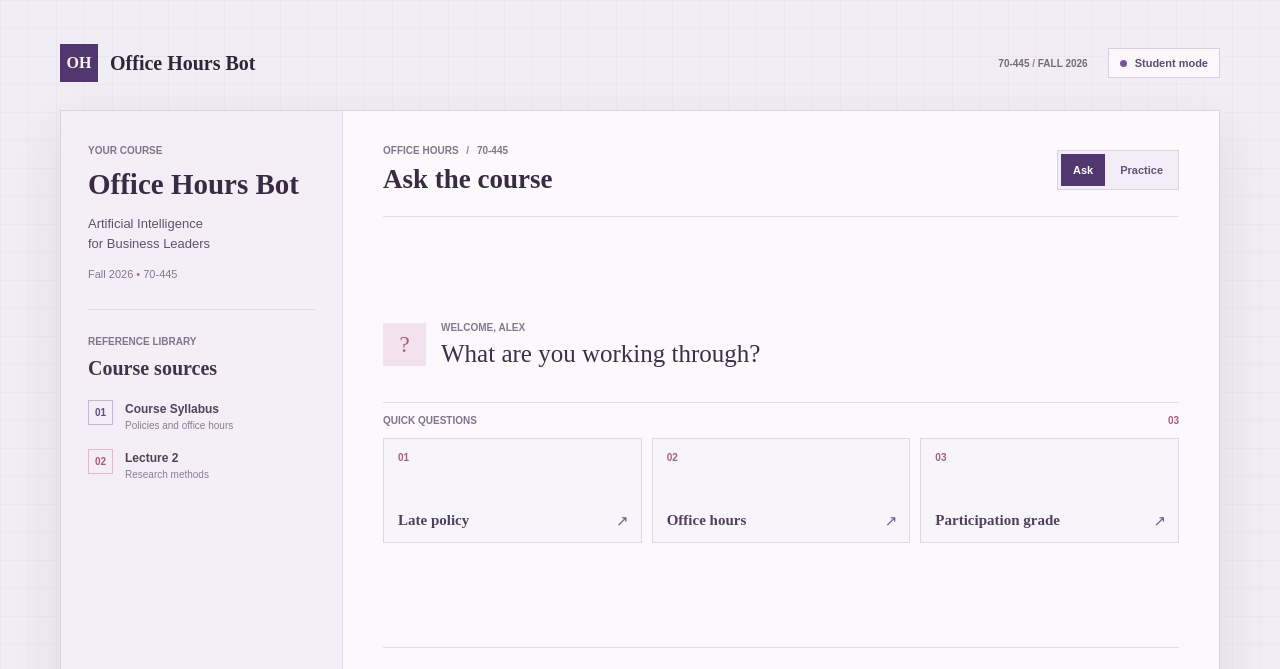
Test: Office Hours Bot - Story 1 › sends a suggested course question and shows its source
What coordinates should you click on to do the following:
click the button with aria-label "ask about late policy"
I would click on:
 (512, 490)
Its box is [383,438,642,542].
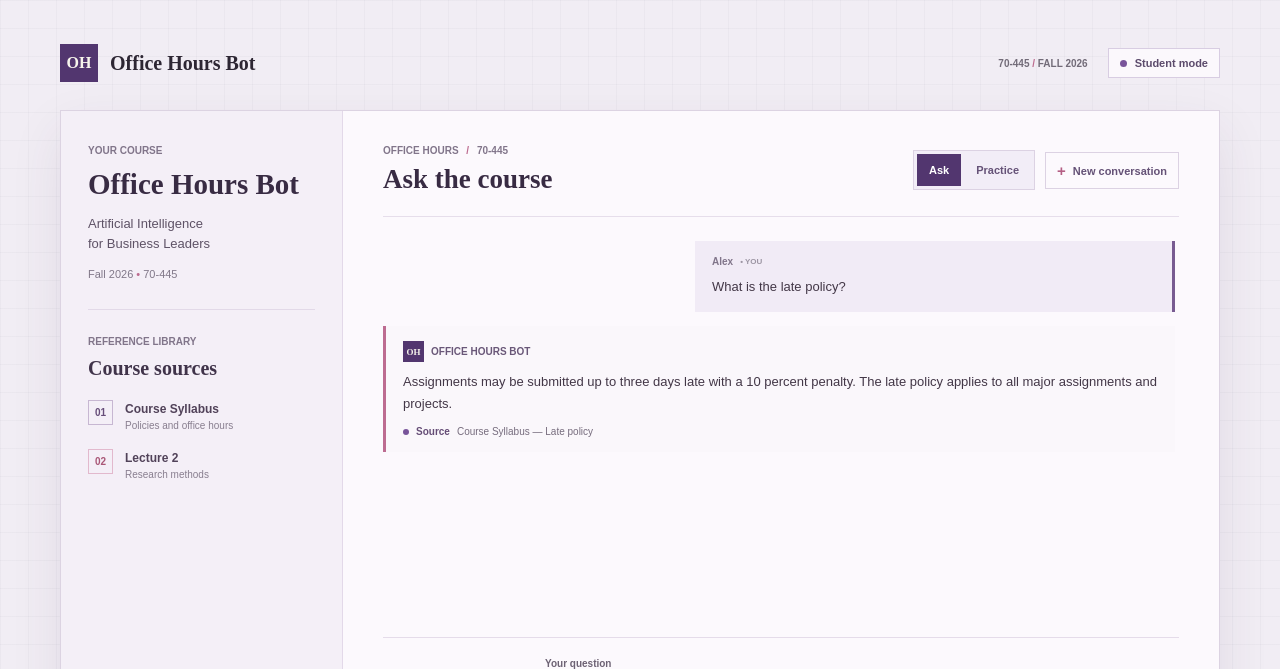
Check: the text "Course Syllabus" is shown, box [125,402,219,416]
Check: the text "three days late with a 10 percent penalty" is shown, box [403,374,1157,411]
